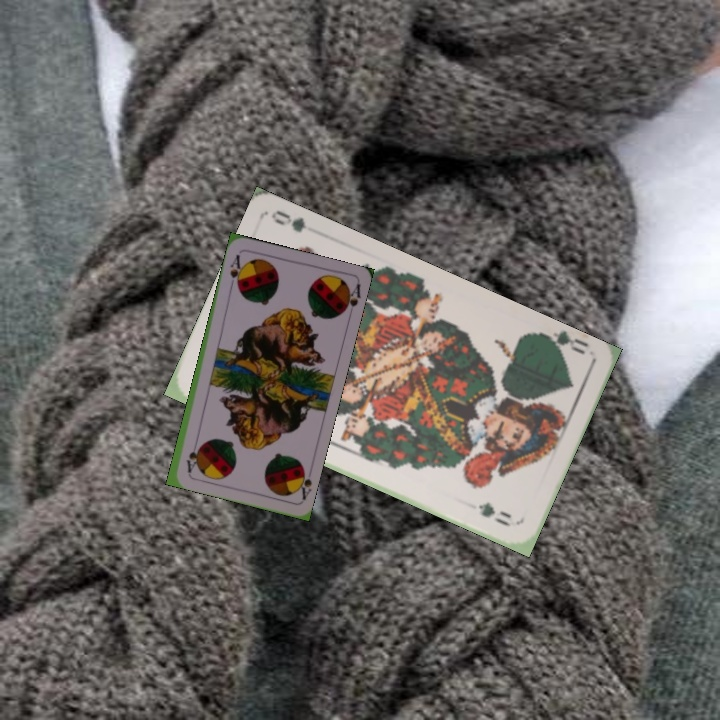GO: (534, 328, 590, 360)
SA: (291, 461, 314, 503), (226, 250, 245, 290)
